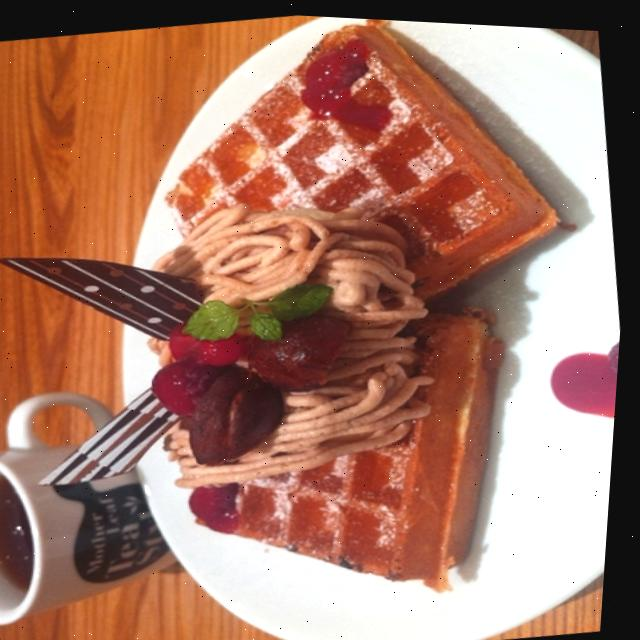炸货点心: (65, 4, 640, 640)
蛋糕甜品: (65, 4, 640, 640)
